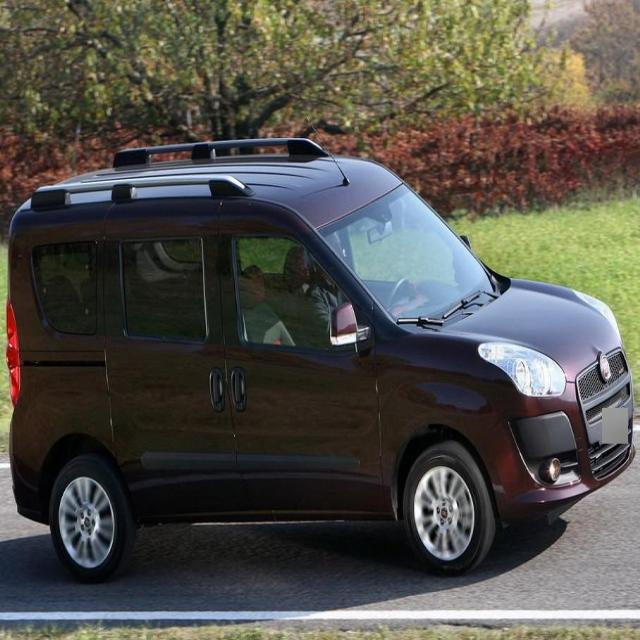back_right_side_light: (4, 292, 21, 409)
door: (108, 211, 225, 516)
front_bumper: (468, 401, 635, 524)
front_glass: (314, 184, 496, 331)
front_left_side_light: (572, 290, 620, 340)
front_right_side_door: (215, 198, 387, 516)
front_right_side_light: (476, 339, 566, 399)
front_right_side_mirror: (330, 302, 371, 351)
wheel: (404, 446, 494, 574), (51, 461, 127, 582)
